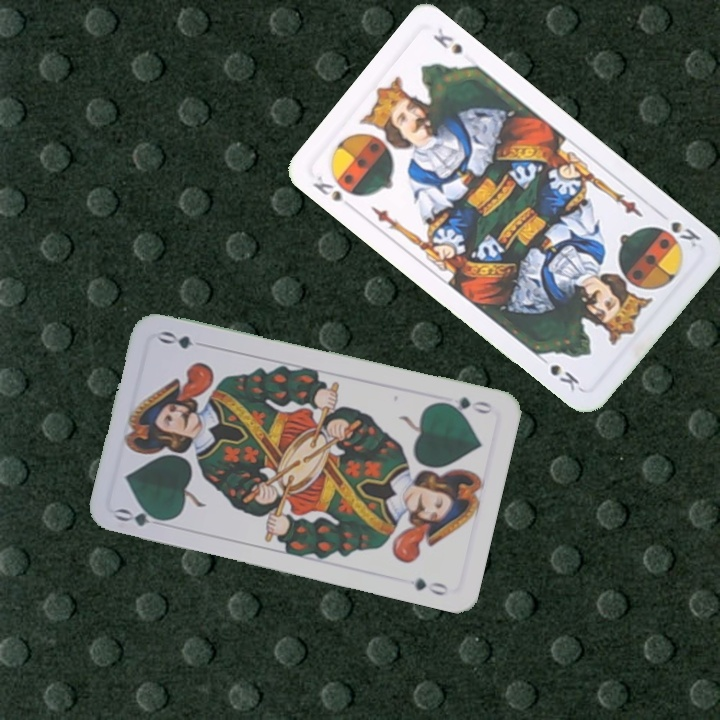GO: (111, 503, 172, 530), (436, 392, 495, 417)
SK: (308, 171, 359, 212), (667, 217, 704, 250)
